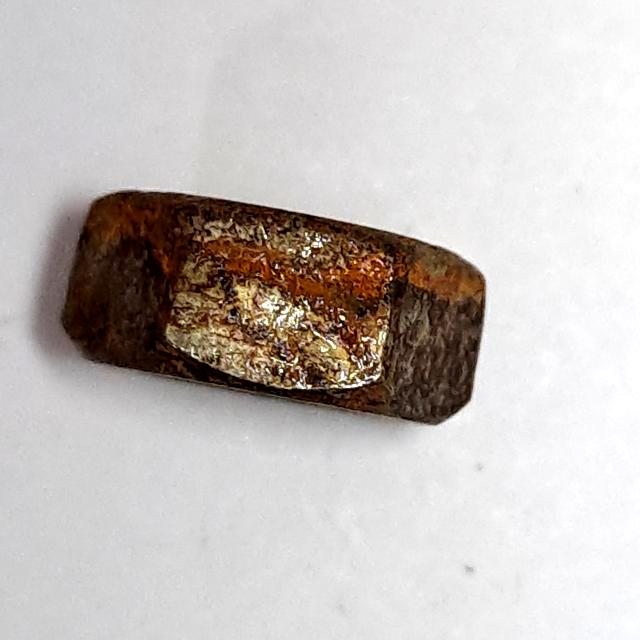Side_Rust: (51, 177, 503, 460)
